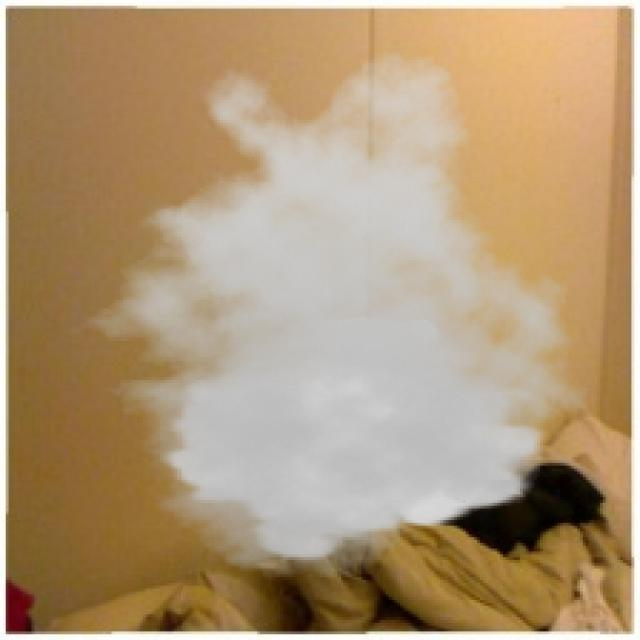Smoke: (60, 48, 597, 580)
